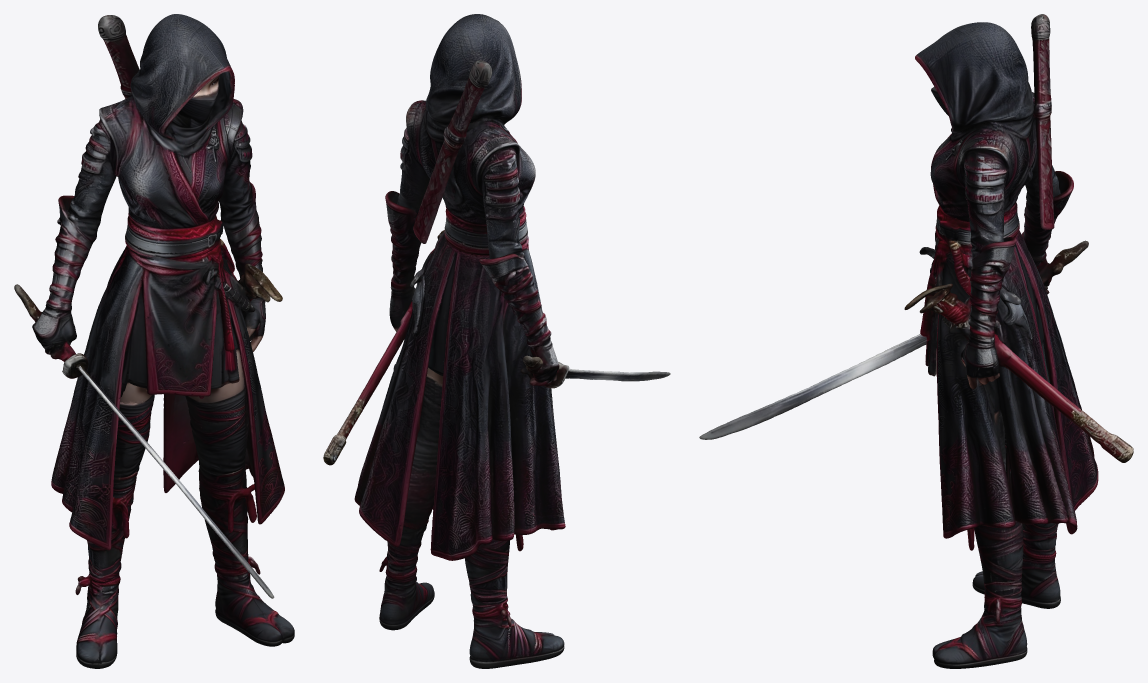
The picture shows the model from 3 angles, left to right: view 1: azimuth 30°, elevation 25°; view 2: azimuth 150°, elevation 25°; view 3: azimuth 270°, elevation 25°; orthographic projection. The views are drawn at different scales.
Visible parts, largest first — view 1: tripo_part_22, tripo_part_3, tripo_part_18, tripo_part_5, tripo_part_0, tripo_part_12, tripo_part_7, tripo_part_23, tripo_part_9, tripo_part_1, tripo_part_8, tripo_part_25 (+25 smaller); view 2: tripo_part_22, tripo_part_0, tripo_part_3, tripo_part_2, tripo_part_7, tripo_part_5, tripo_part_1, tripo_part_24, tripo_part_9, tripo_part_12, tripo_part_15, tripo_part_26 (+15 smaller); view 3: tripo_part_0, tripo_part_3, tripo_part_22, tripo_part_12, tripo_part_6, tripo_part_5, tripo_part_24, tripo_part_14, tripo_part_8, tripo_part_15, tripo_part_25, tripo_part_10 (+9 smaller).
Part boxes in pixels (<box>): tripo_part_22: <box>51,245,143,550</box>; tripo_part_3: <box>130,14,232,154</box>; tripo_part_18: <box>141,260,217,396</box>; tripo_part_5: <box>118,95,229,232</box>; tripo_part_0: <box>163,250,284,524</box>; tripo_part_12: <box>198,470,278,628</box>; tripo_part_7: <box>68,102,127,229</box>; tripo_part_23: <box>120,246,239,398</box>; tripo_part_9: <box>45,195,97,313</box>; tripo_part_1: <box>75,572,119,668</box>; tripo_part_8: <box>62,353,274,598</box>; tripo_part_25: <box>215,588,294,646</box>; tripo_part_22: <box>430,242,565,560</box>; tripo_part_0: <box>358,232,449,547</box>; tripo_part_3: <box>425,14,521,133</box>; tripo_part_2: <box>428,244,501,545</box>; tripo_part_7: <box>470,132,522,258</box>; tripo_part_5: <box>416,106,535,227</box>; tripo_part_1: <box>469,601,564,668</box>; tripo_part_24: <box>413,60,491,243</box>; tripo_part_9: <box>479,252,551,347</box>; tripo_part_12: <box>379,475,435,613</box>; tripo_part_15: <box>385,191,421,293</box>; tripo_part_26: <box>465,540,509,597</box>; tripo_part_0: <box>936,248,1077,538</box>; tripo_part_3: <box>916,22,1033,146</box>; tripo_part_22: <box>1015,230,1098,510</box>; tripo_part_12: <box>961,522,1023,658</box>; tripo_part_6: <box>904,283,1133,462</box>; tripo_part_5: <box>930,101,1036,221</box>; tripo_part_24: <box>1031,14,1054,229</box>; tripo_part_14: <box>959,130,1015,203</box>; tripo_part_8: <box>699,334,926,439</box>; tripo_part_15: <box>968,237,1016,338</box>; tripo_part_25: <box>932,621,1027,668</box>; tripo_part_10: <box>1022,413,1070,523</box>.
Bounding box in the file's own units: 0.3523 × 1 × 0.6539.
48 materials, 48 textured.
